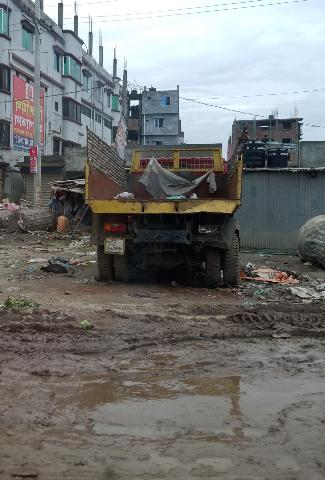truck: (61, 133, 245, 297)
